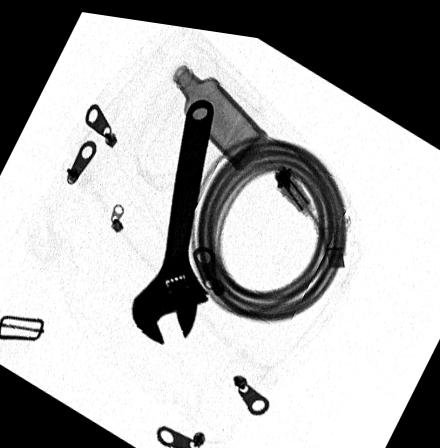Wrench: (132, 91, 216, 337)
